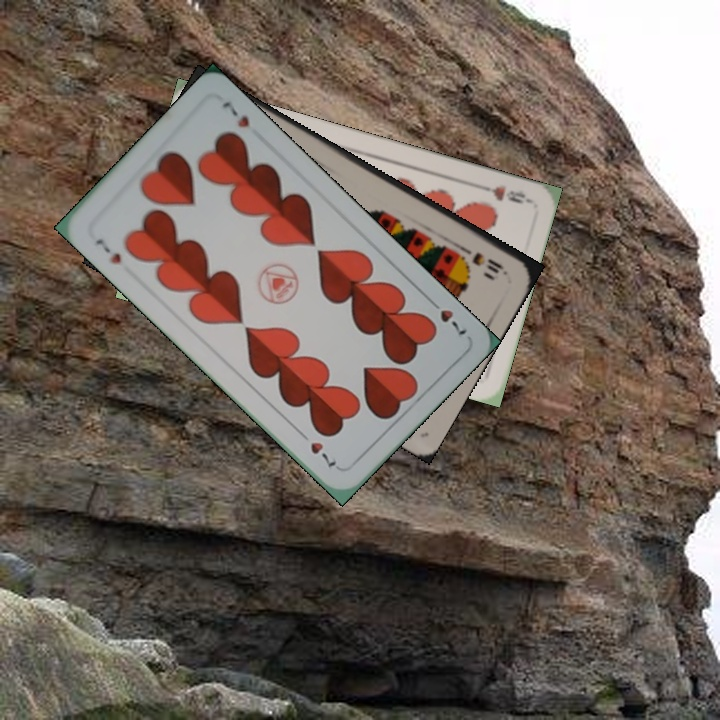H7: (423, 294, 469, 338), (91, 234, 124, 267)
H9: (474, 180, 532, 207)
S10: (456, 242, 510, 278)
